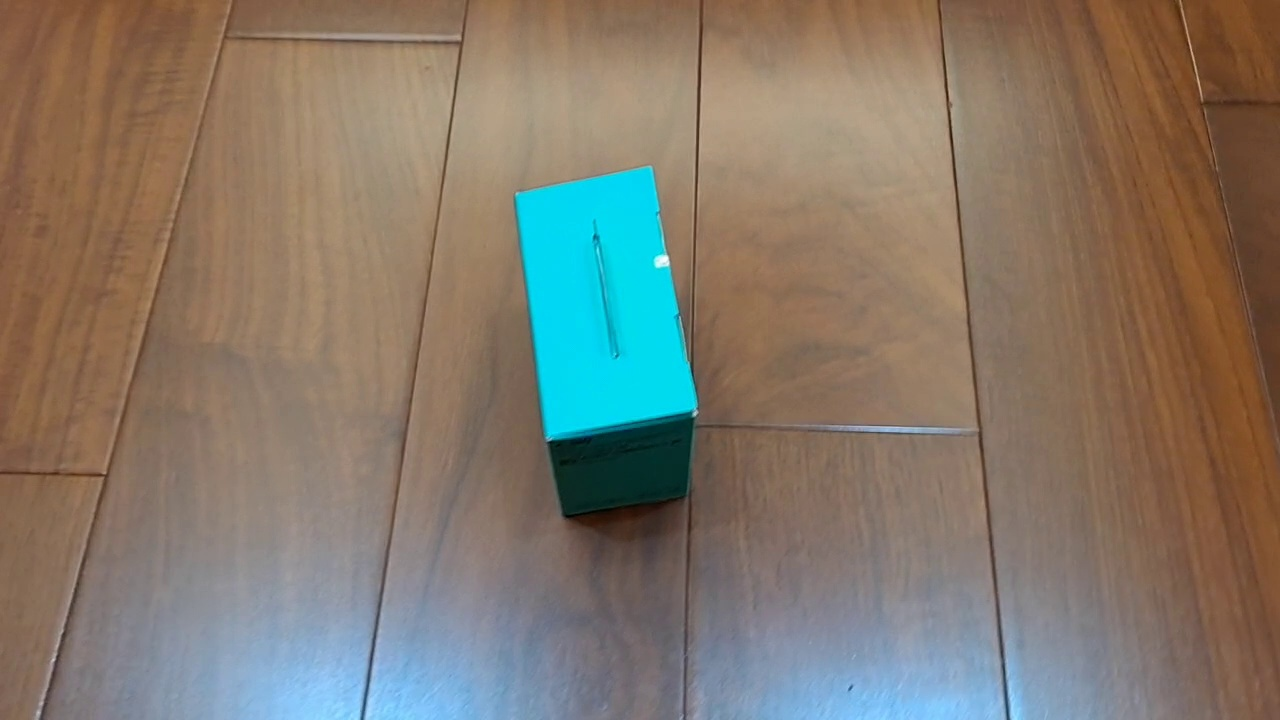webcam: (513, 165, 701, 521)
